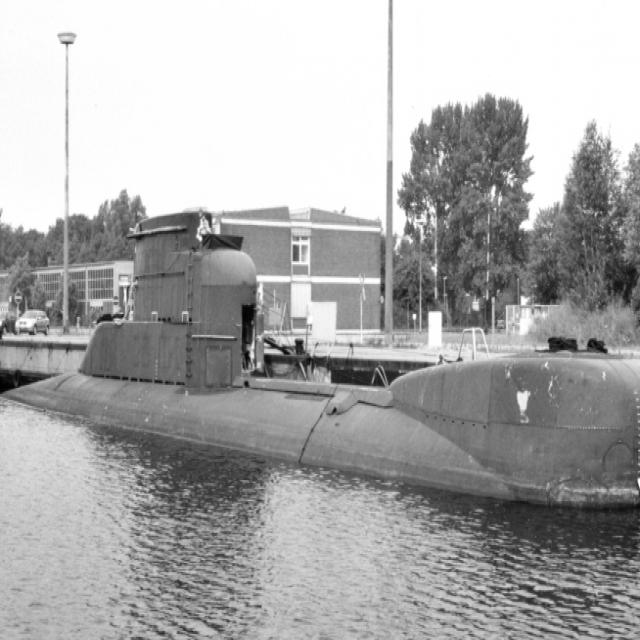submarine: (1, 205, 640, 501)
